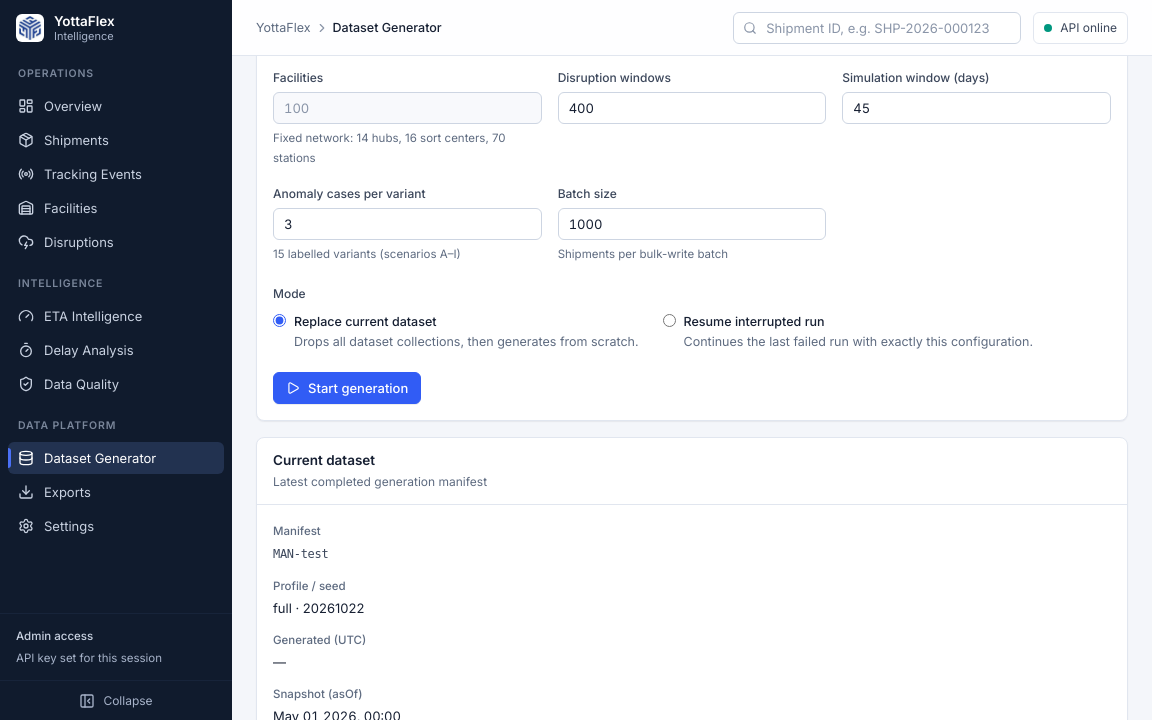
Test: dataset generator › reports a failed job with its backend error
(page scrolled)
Step 1. Click the button "Start generation" → (347, 388), box [273,372,421,404]
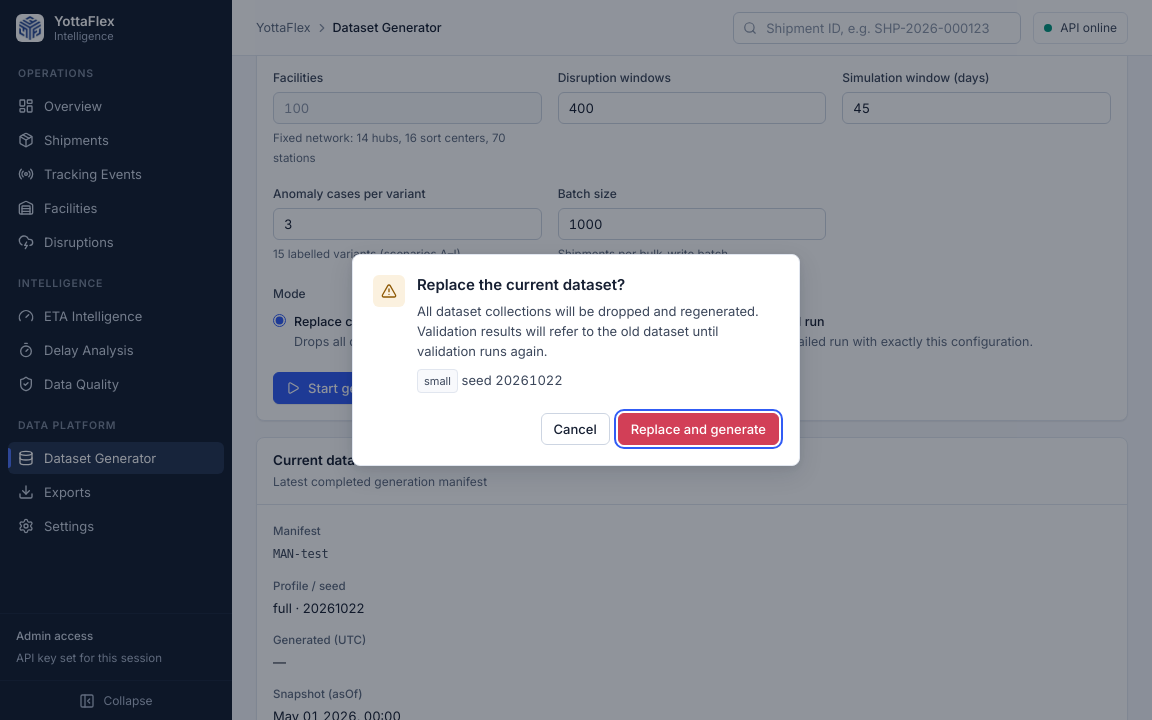
Step 2. Click the button "Replace and generate" → (698, 429), box [618,413,779,445]
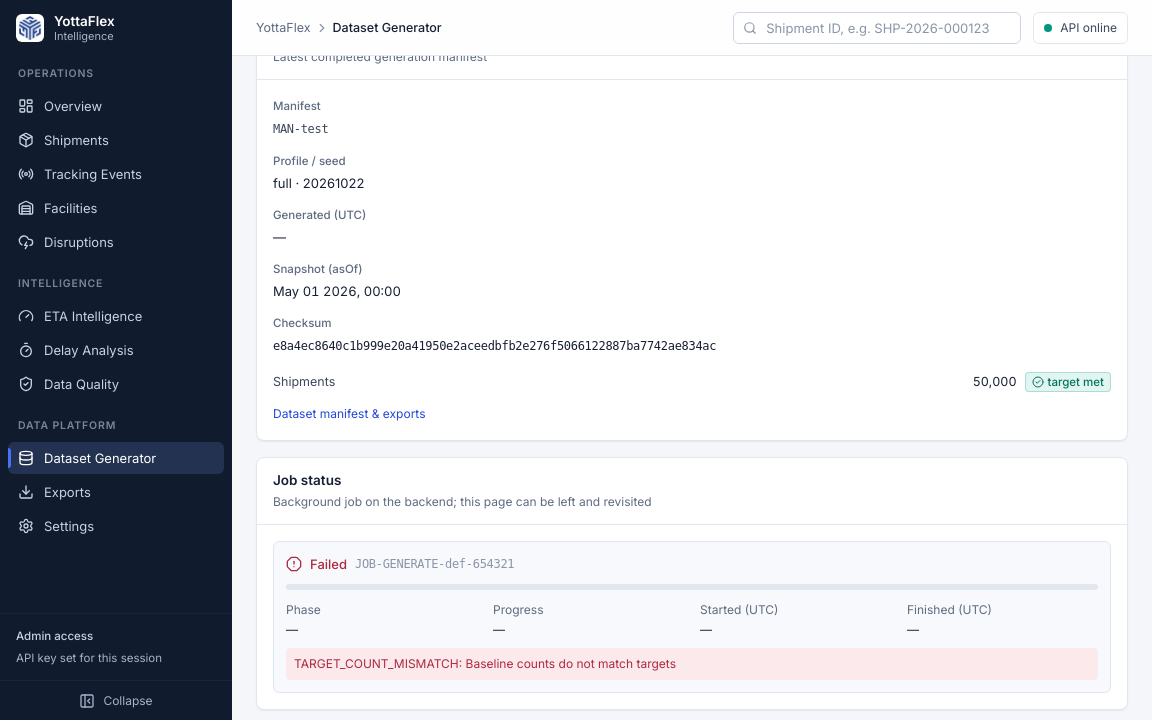
Now the text "TARGET_COUNT_MISMATCH: Baseline counts do not match targets" is shown, box [286,648,1098,680]
